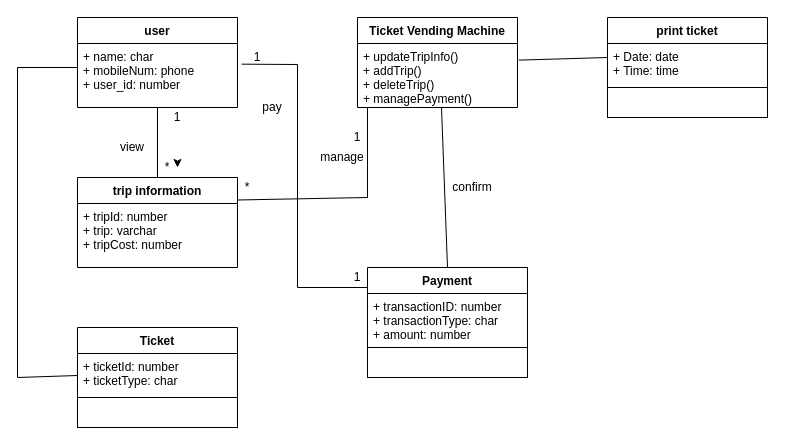
The diagram is 785 pixels wide and 448 high, and some of its shapes have lost their labels. Each missing label, with the centre of its shape:
+ confirmMessage(): the point at 447,362
+ manageTicket(): the point at 157,412
+ printTicket(): the point at 687,102
